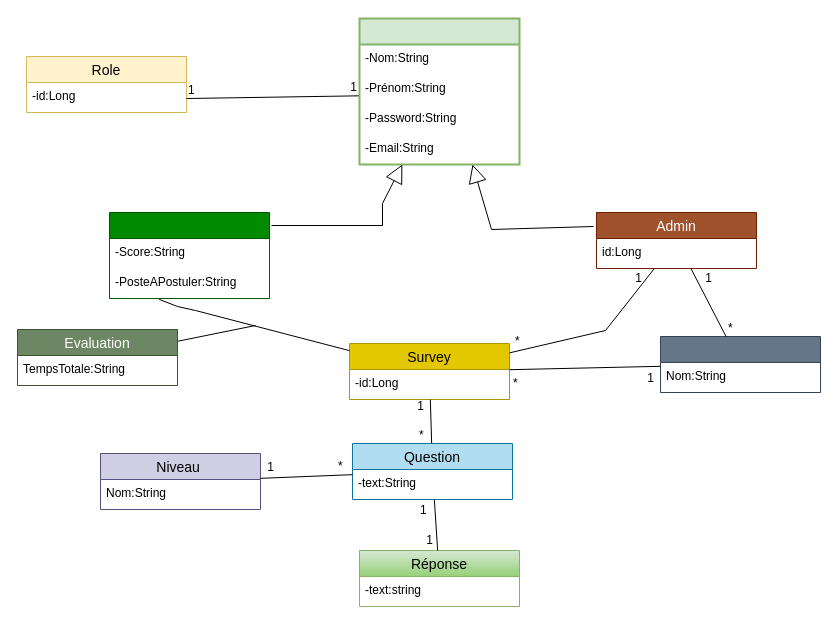
Image size: 838x626. Some labels were removed from this diagram. Each missing label, with the box of its shape:
Condidat: (108, 212, 270, 298)
Domaine: (660, 336, 820, 392)
Utilisateur: (358, 17, 520, 165)
